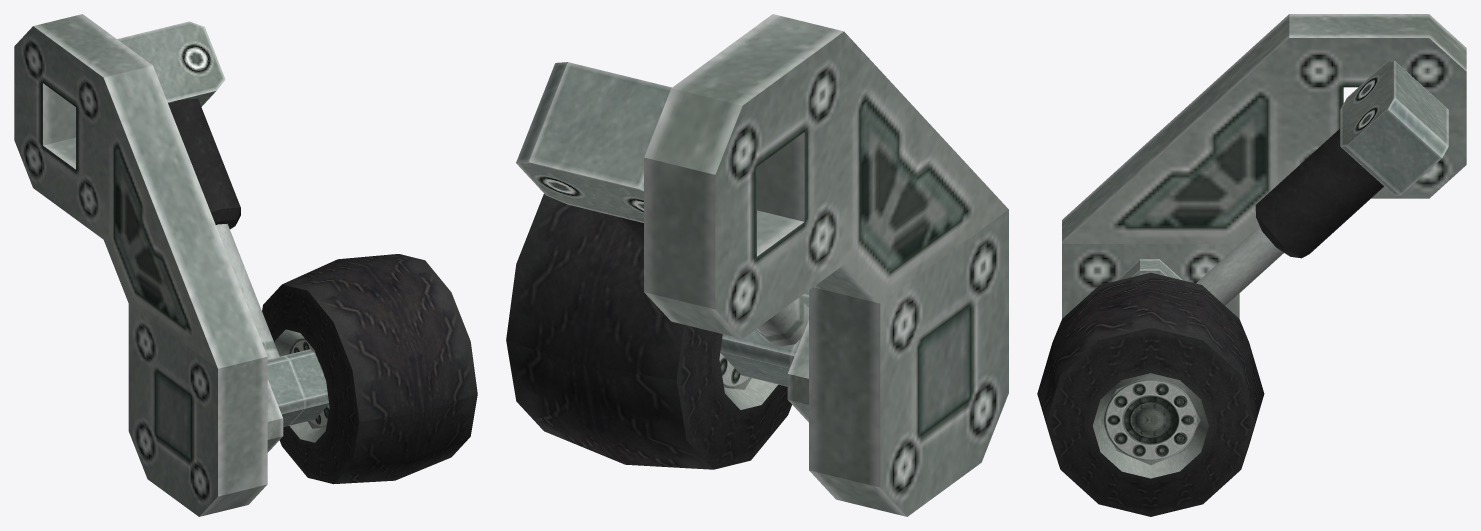
Rendered from Wheel_single_forward_R.FBX.
3 views of the same model, side by side, from view 1: azimuth 30°, elevation 25°; view 2: azimuth 150°, elevation 25°; view 3: azimuth 270°, elevation 25° (orthographic). The views are drawn at different scales.
Visible parts, largest first — view 1: Wheel_single_forward_R; view 2: Wheel_single_forward_R; view 3: Wheel_single_forward_R.
Boxes of the visible parts, <box> form: Wheel_single_forward_R: <box>14,14,477,516</box>; Wheel_single_forward_R: <box>506,14,1008,516</box>; Wheel_single_forward_R: <box>1037,14,1466,516</box>.
Bounding box in the file's own units: 131 × 189 × 189.
